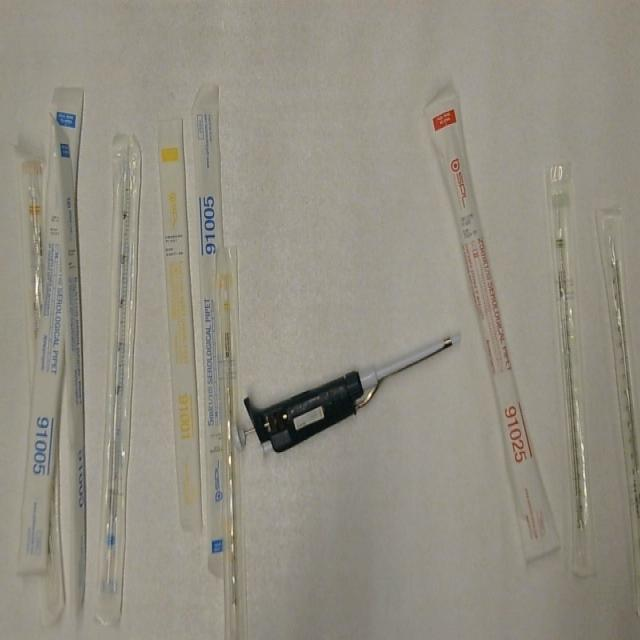Serelogical Pipet 1 mL: (155, 116, 203, 536), (212, 238, 251, 640)
Serelogical Pipet 10 mL: (14, 148, 53, 394)
Serelogical Pipet 2 mL: (544, 159, 594, 590)
Serelogical Pipet 25 mL: (422, 85, 562, 570)
Serelogical Pipet 5 mL: (16, 78, 88, 577), (94, 125, 145, 625), (188, 80, 235, 579), (50, 108, 86, 631)
Single Channel Pipettor: (228, 326, 464, 461)
